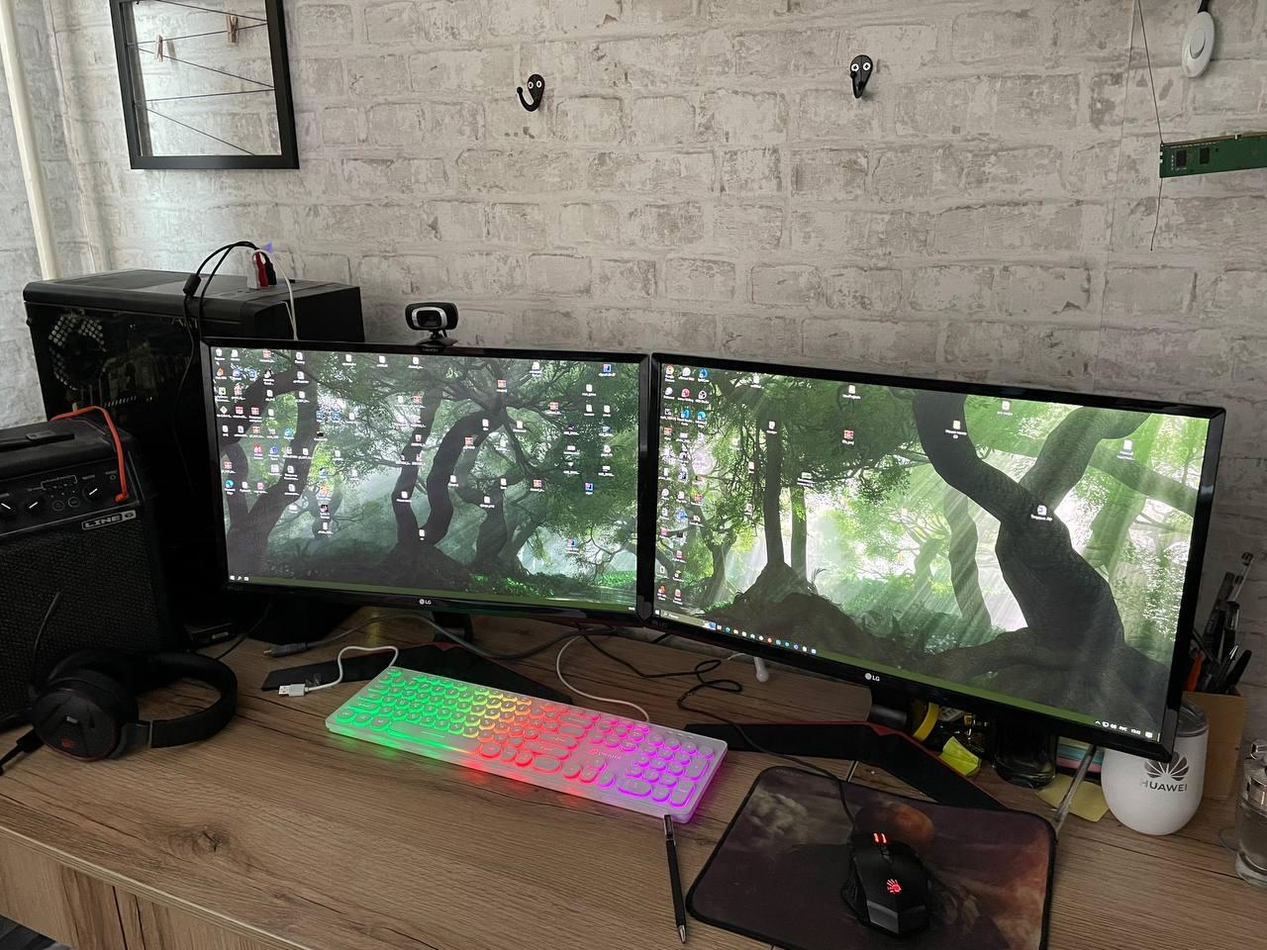monitor: (192, 335, 650, 631)
